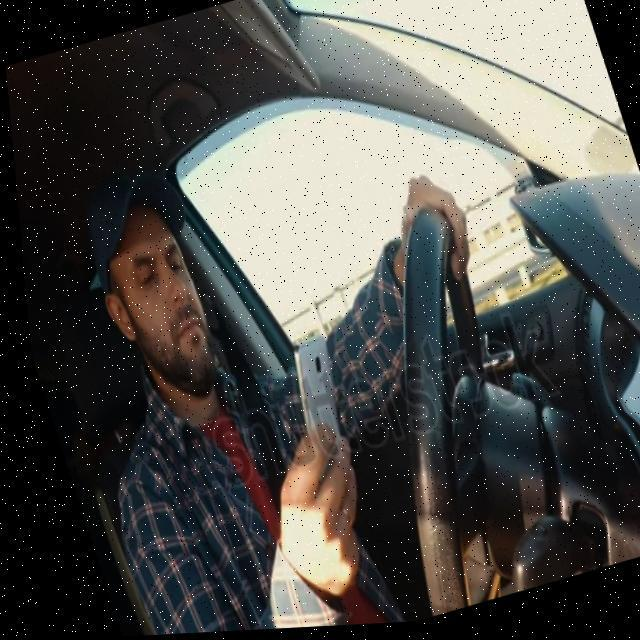PhoneCall: (266, 330, 362, 498)
